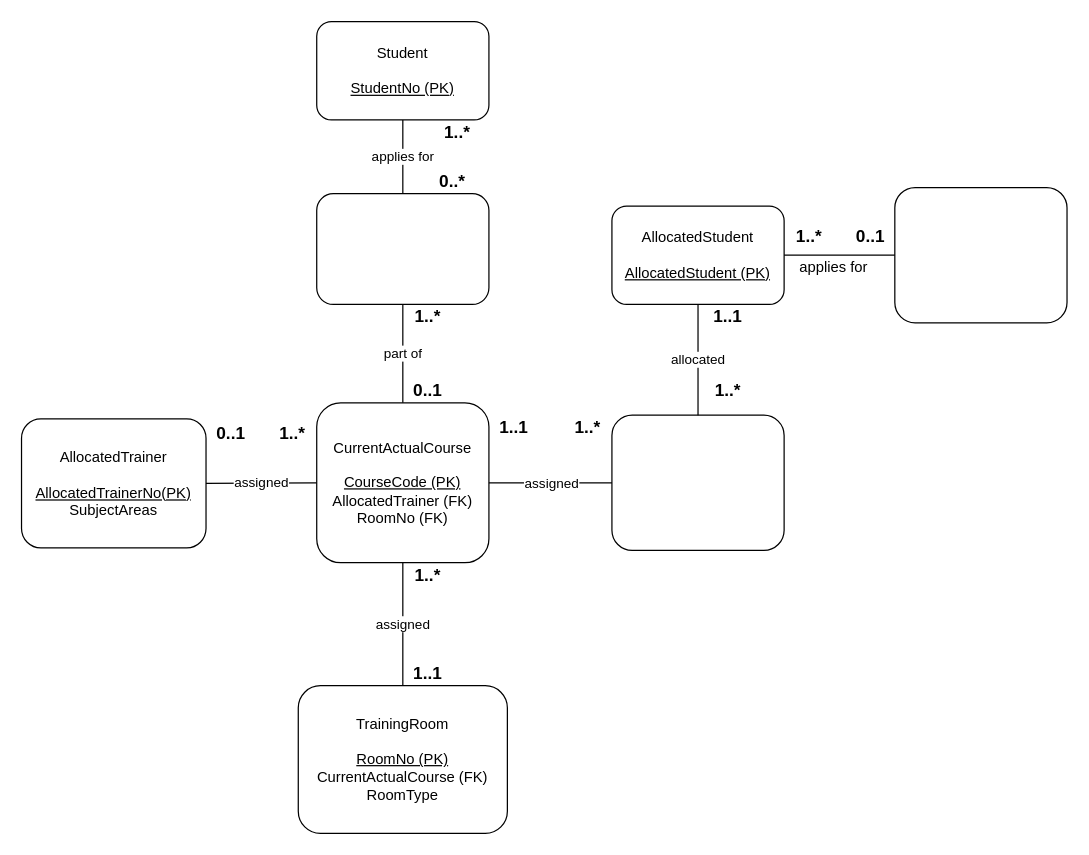
This 1089x855 diagram has some shape labels left out. The centre of each missing label's shape, as x and y in pixels:
Accommodation AccommodationNo (PK) AllocatedStudent (FK): (x=980, y=254)
Allocation AllocatedStudent (FK) CurrentActualCourse (FK): (x=697, y=482)
CourseType CourseCode (PK) CourseTitle CourseCost: (x=402, y=248)
